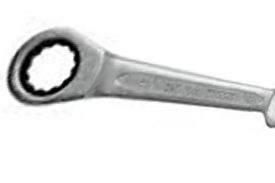Wrench: (1, 23, 275, 157)
